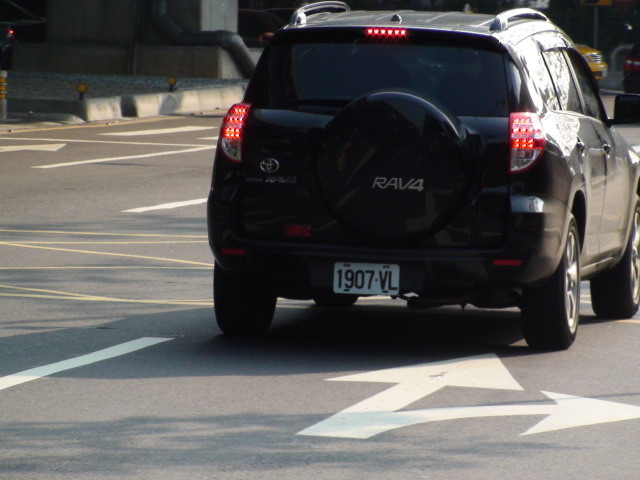plate: (333, 255, 404, 298)
